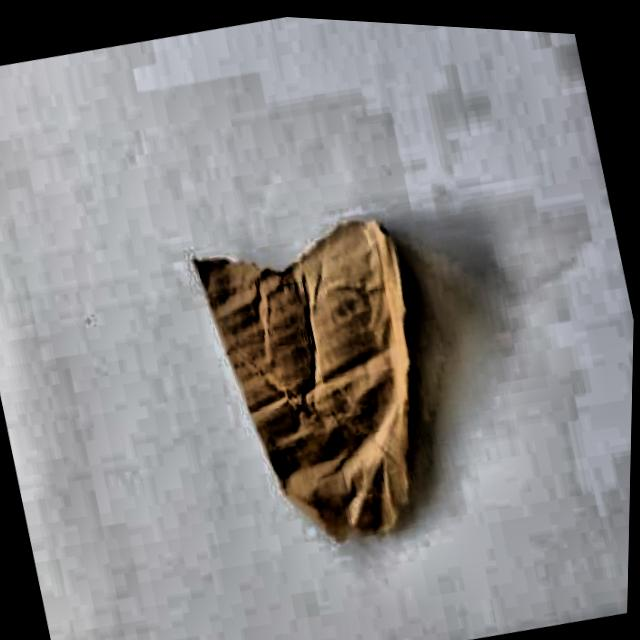Cardbox: (89, 123, 588, 640)
